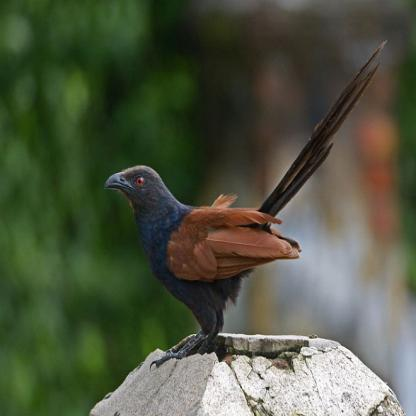Burung: (103, 38, 387, 370)
